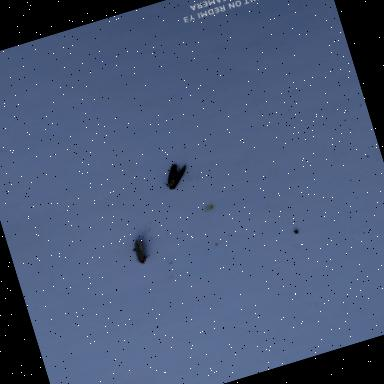pbw: (158, 158, 195, 192), (127, 230, 154, 266)
